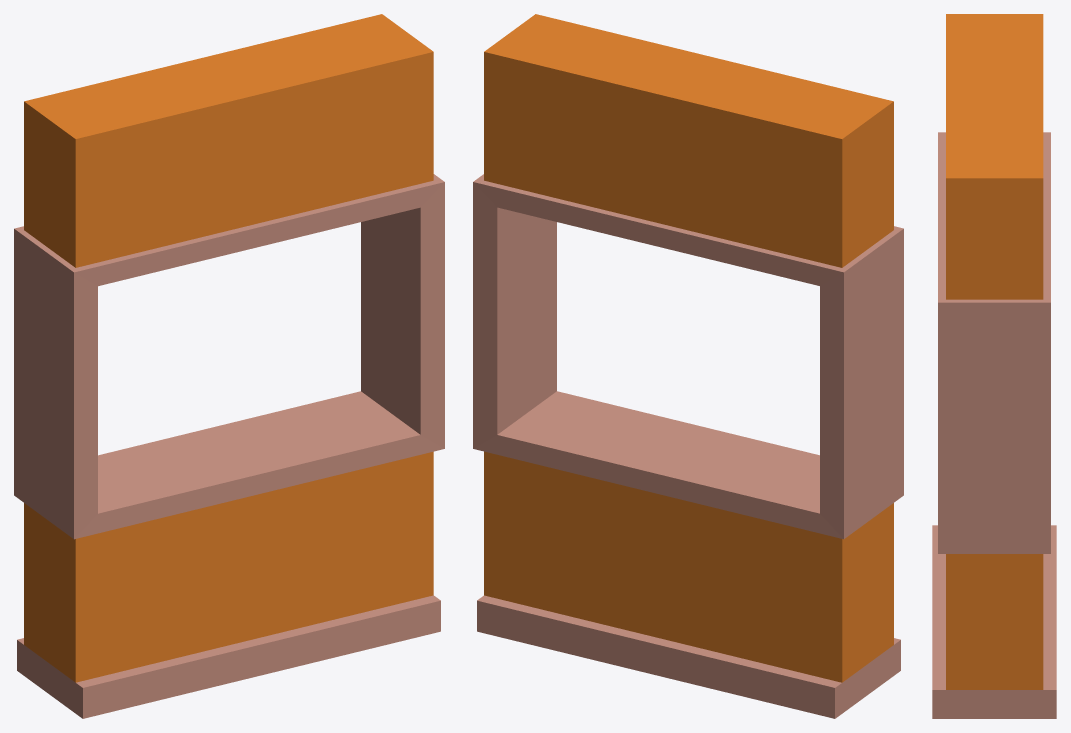
The model's file is windowhole.glb.
The picture shows the model from 3 angles, left to right: view 1: azimuth 30°, elevation 25°; view 2: azimuth 150°, elevation 25°; view 3: azimuth 270°, elevation 25°; orthographic projection. The views are drawn at different scales.
Parts seen in each view (by area): view 1: pCube235; view 2: pCube235; view 3: pCube235.
Part boxes in pixels (<box>): pCube235: <box>14,14,444,718</box>; pCube235: <box>473,14,903,718</box>; pCube235: <box>932,14,1056,718</box>.
Size of the model in its own units: 2 by 2.96 by 0.616.
Materials: 2 (1 with a texture image).
